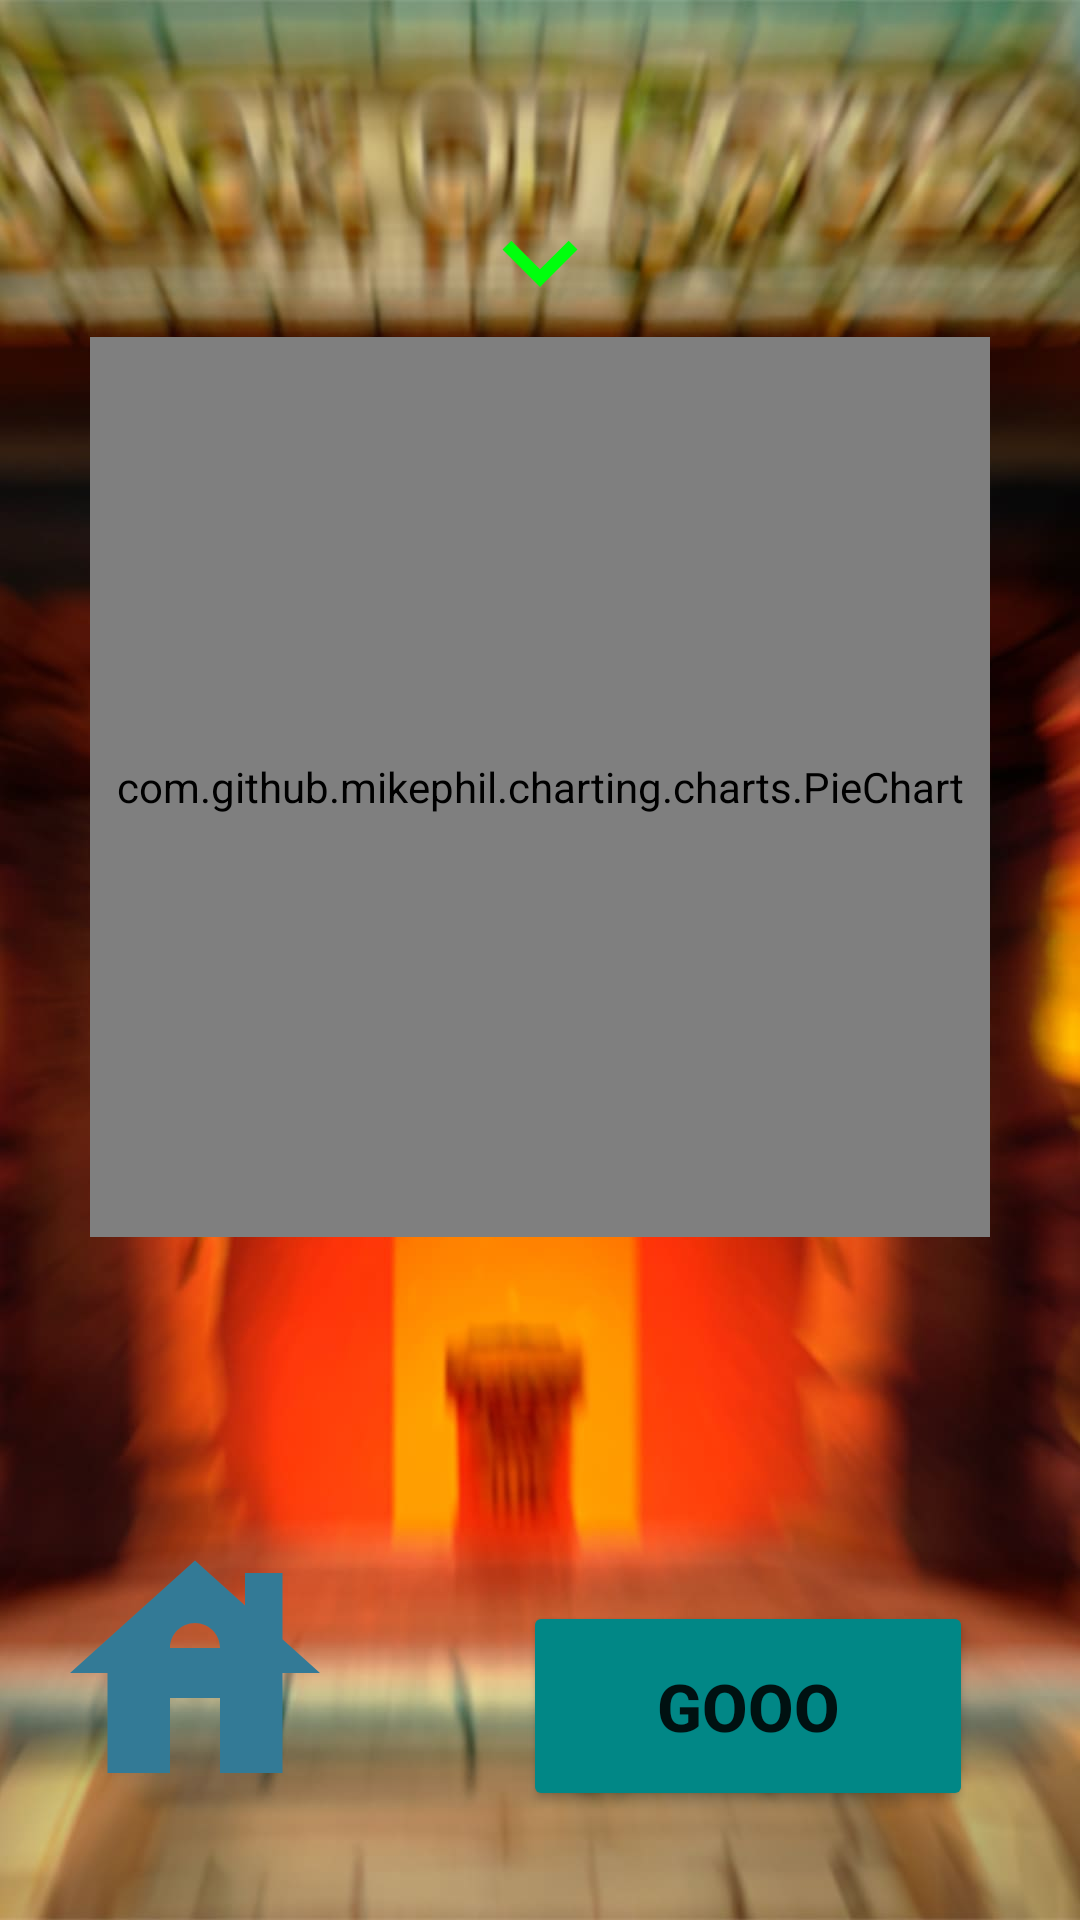

Icon click points for this 1080px×1920px phone screenshot, format point (x, y):
house: point (195, 1673)
